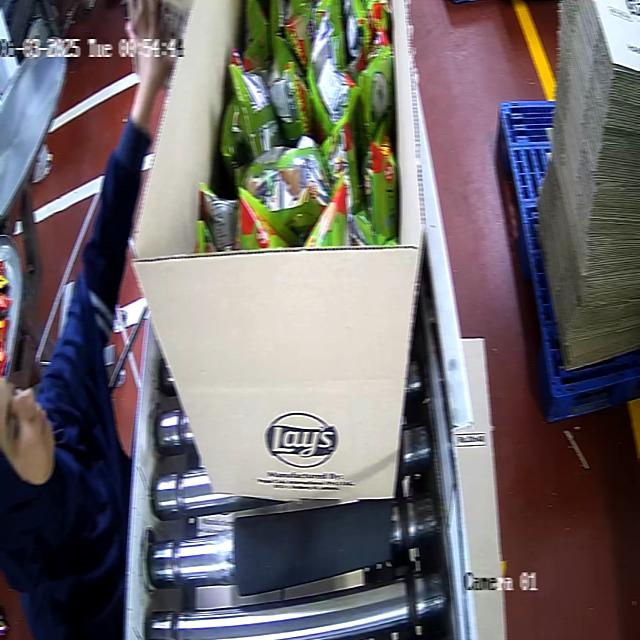YOGURT_HERB: (214, 0, 404, 254)
